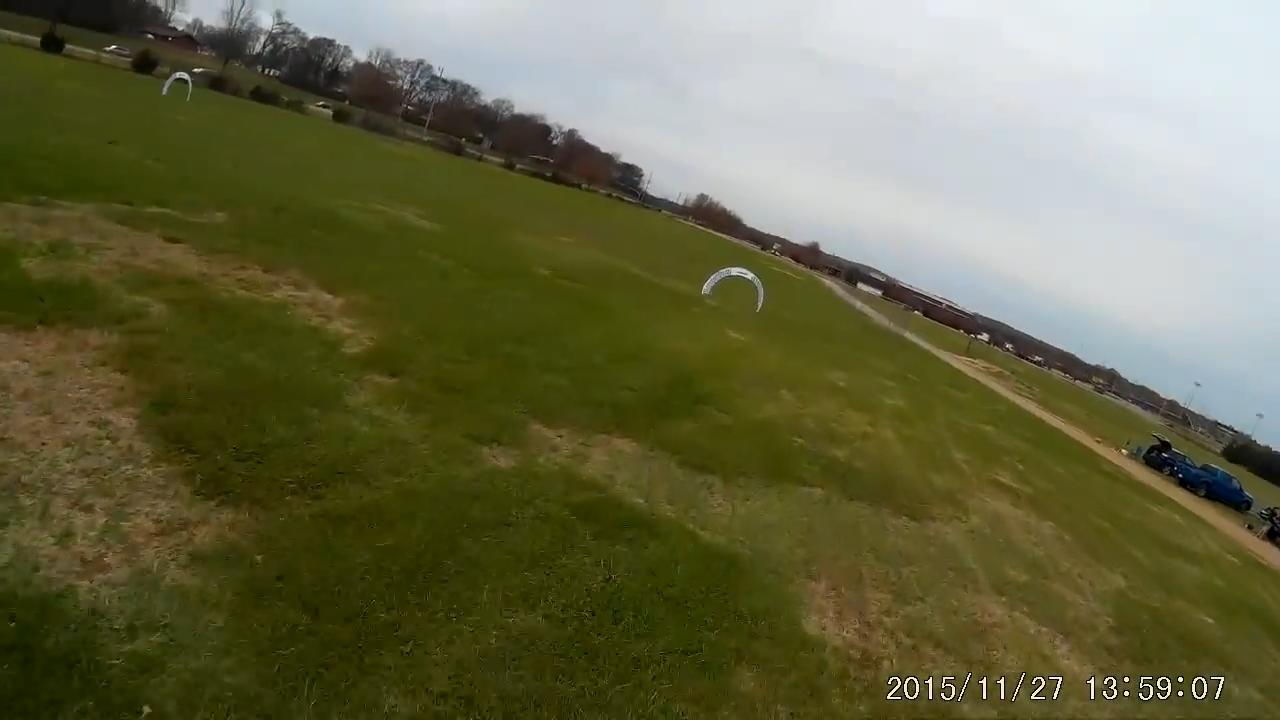gate: (700, 266, 766, 315)
